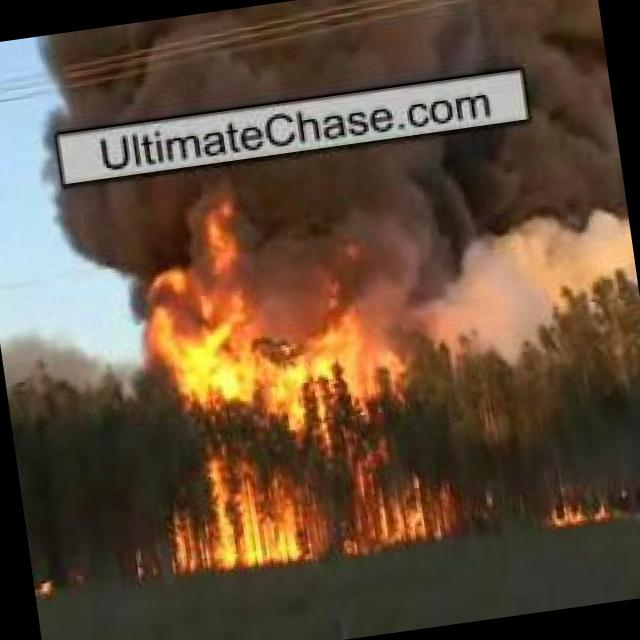Fire: (134, 198, 463, 574), (36, 0, 605, 133), (52, 116, 621, 244), (546, 489, 627, 532)
